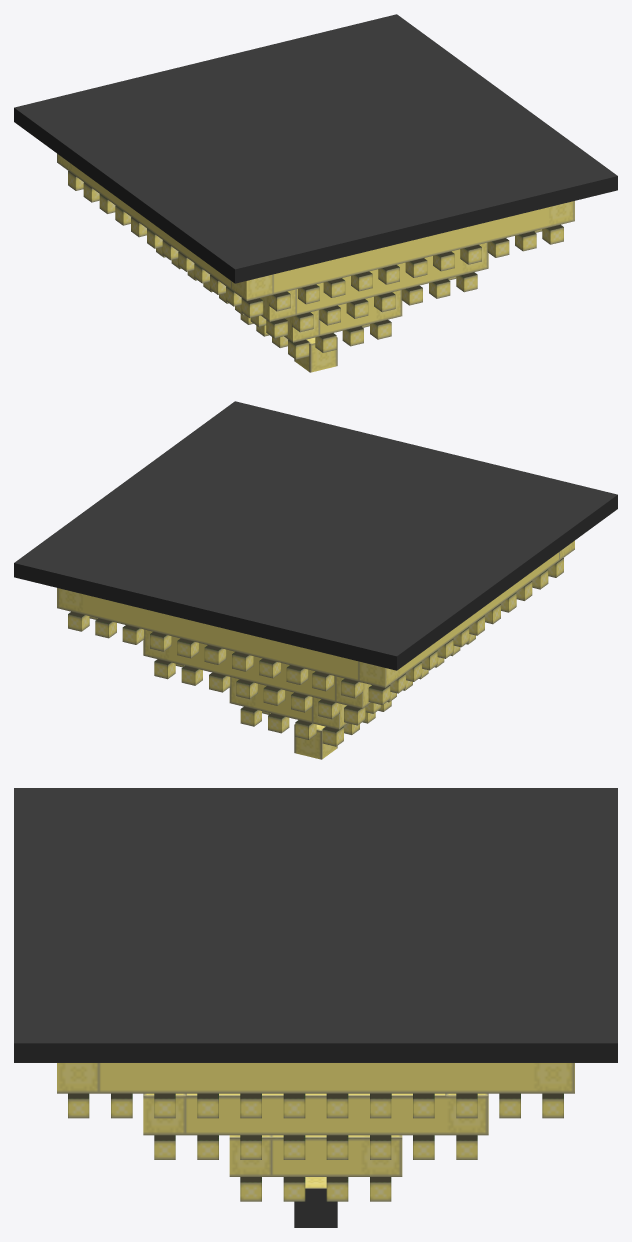
File: chandelier.fbx
The picture shows the model from 3 angles, top to bottom: view 1: azimuth 30°, elevation 25°; view 2: azimuth 150°, elevation 25°; view 3: azimuth 270°, elevation 25°; orthographic projection. The views are drawn at different scales.
Parts seen in each view (by area): view 1: Cube; view 2: Cube; view 3: Cube.
Part boxes in pixels (box(x1,y1,x2,y2)): Cube: box(14, 14, 617, 372); Cube: box(14, 401, 617, 759); Cube: box(14, 788, 617, 1227).
Size of the model in its own units: 1400 by 775 by 1400.
